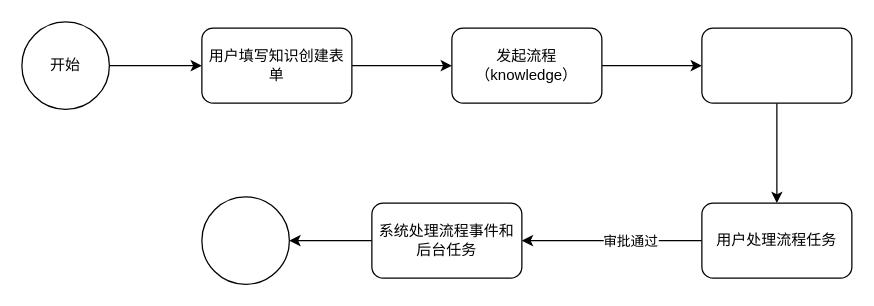
Some shapes in this 874 by 306 pixel diagram are drawn without their labels. Each missing label, with the centre of its shape:
"根据关键字匹配流程定义生成流程实例和任务" goes at (x=776, y=65).
"结束" goes at (x=245, y=240).
